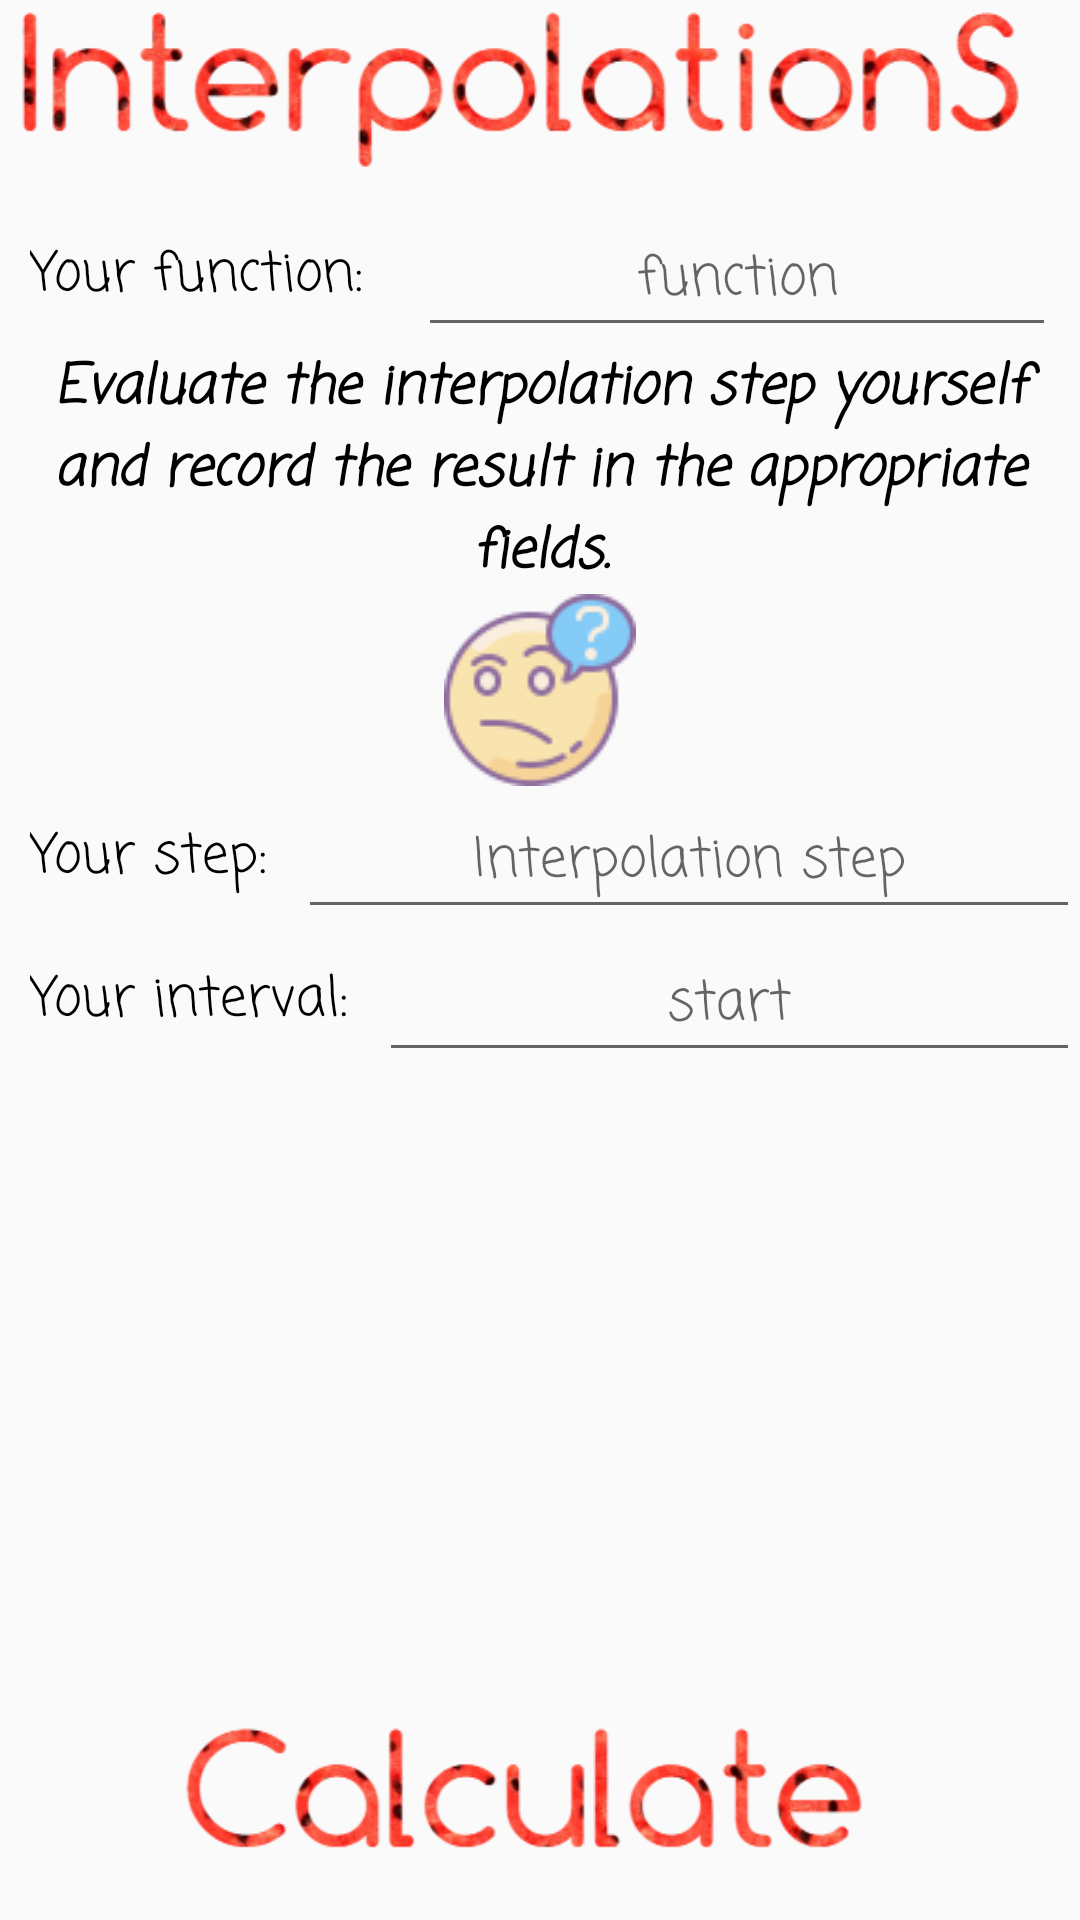

Icons on this 1080x1920 Android screen, each with its box as (x1, y1, x2, y2):
question: (444, 594, 636, 786)
